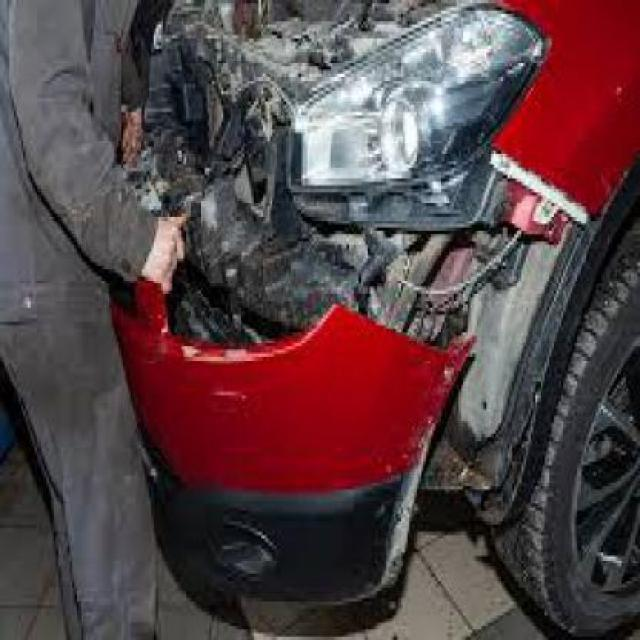damaged-front-bumper: (125, 230, 538, 596)
